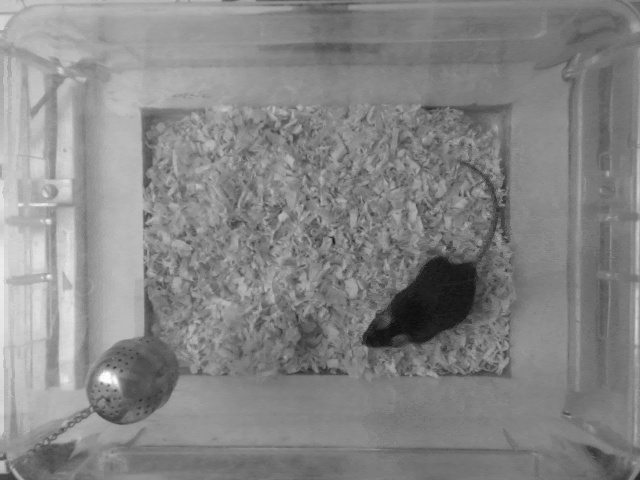mice: (357, 159, 500, 351)
